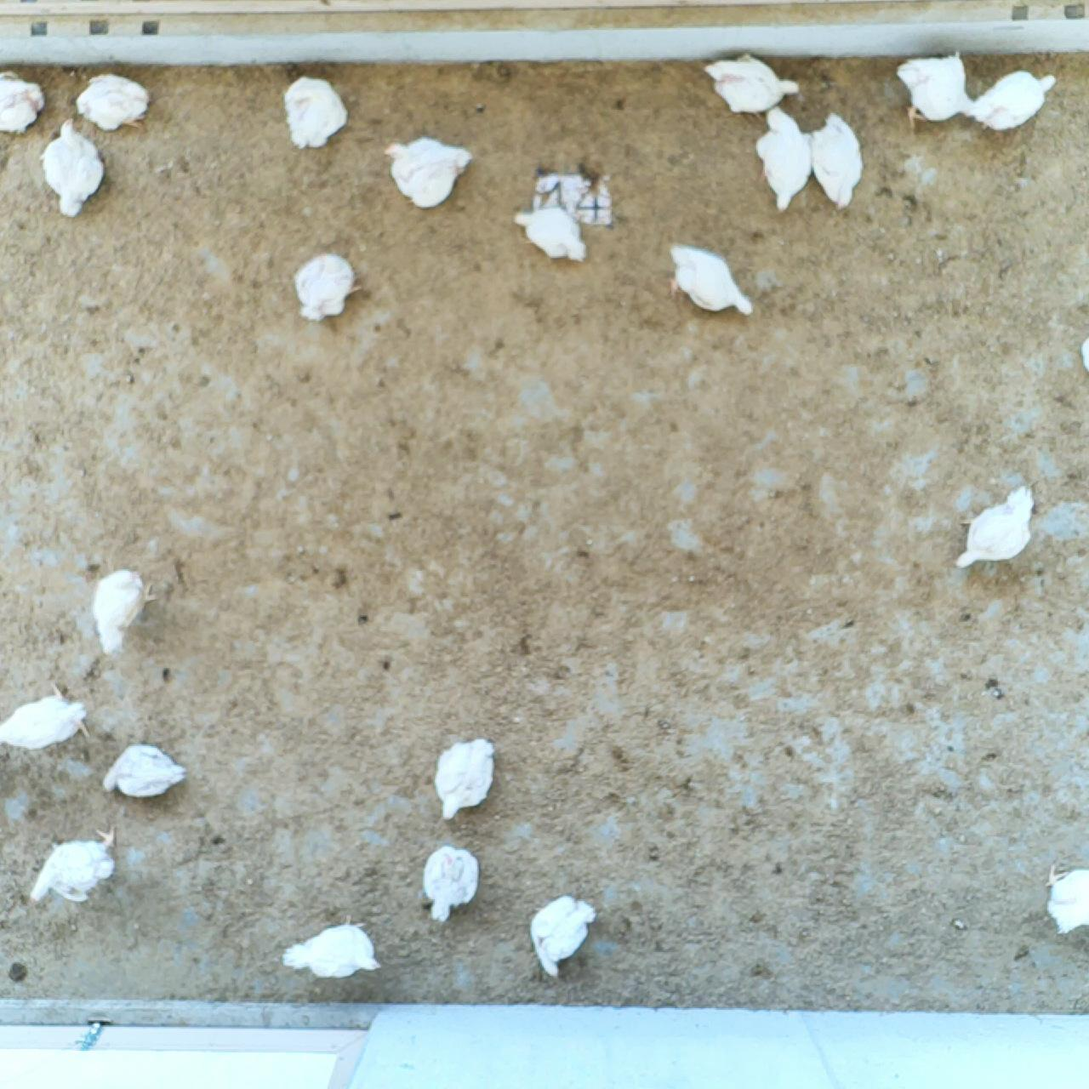chicken: (28, 826, 117, 904), (954, 486, 1035, 567), (385, 137, 473, 209), (42, 119, 105, 217), (670, 242, 752, 317), (283, 915, 381, 977), (755, 106, 812, 212), (897, 53, 976, 128), (1, 684, 90, 749), (704, 54, 800, 113), (93, 569, 157, 653), (530, 894, 596, 975), (971, 70, 1056, 131), (812, 111, 863, 208), (435, 738, 495, 818), (282, 76, 347, 149), (294, 254, 363, 320), (75, 73, 151, 131), (103, 744, 186, 797), (422, 846, 478, 921), (515, 208, 586, 263), (1046, 864, 1089, 934), (1, 72, 45, 133), (1080, 338, 1089, 373)
